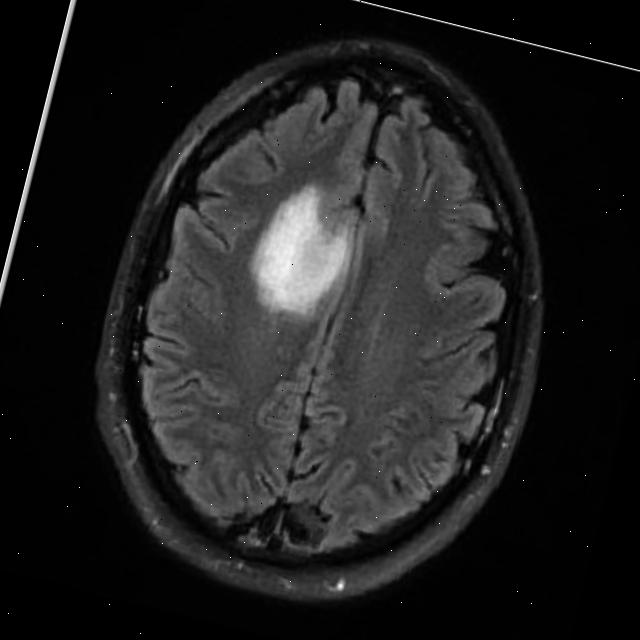tumor: (248, 182, 357, 319)
